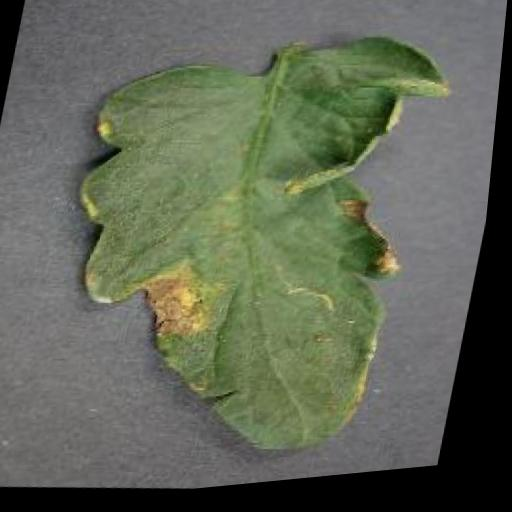Bacterial Spot: (24, 6, 468, 493)
